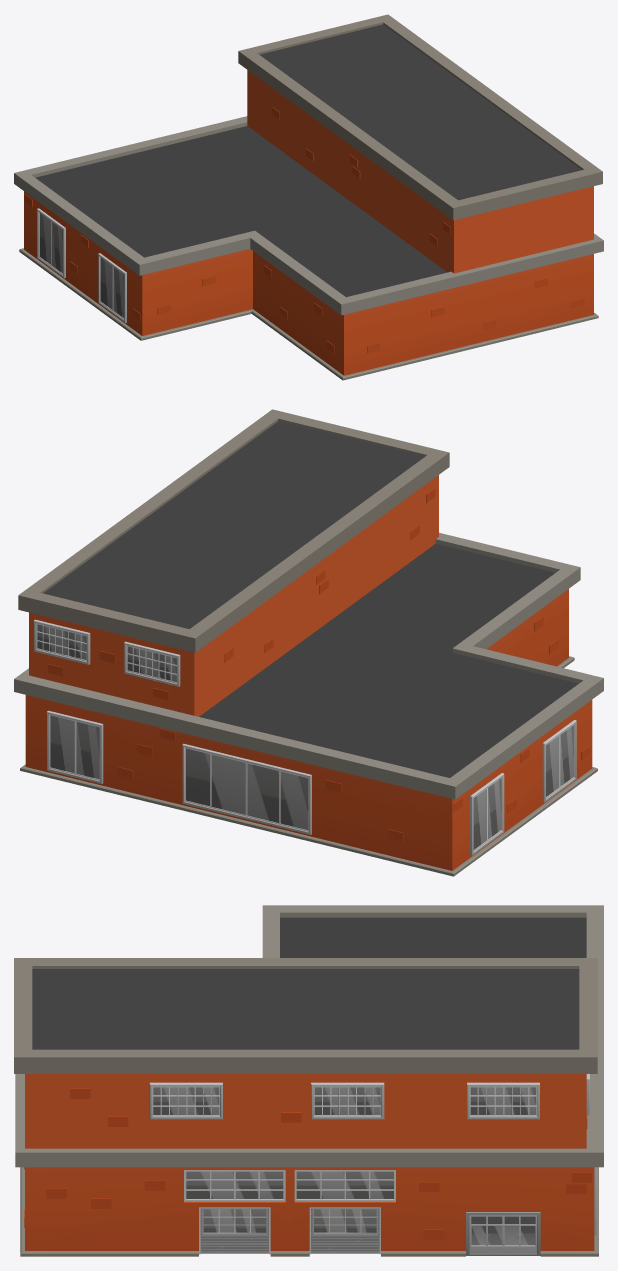
The model's file is Building_22_1_B.fbx.
3 renders of one model, top to bottom at view 1: azimuth 30°, elevation 25°; view 2: azimuth 150°, elevation 25°; view 3: azimuth 270°, elevation 25°, orthographic. The views are drawn at different scales.
Visible parts, largest first — view 1: Building_22_1_B; view 2: Building_22_1_B; view 3: Building_22_1_B.
Part boxes in pixels (x1=…): Building_22_1_B: x1=14, y1=14, x2=603, y2=380; Building_22_1_B: x1=14, y1=409, x2=603, y2=876; Building_22_1_B: x1=14, y1=905, x2=603, y2=1256.
Size of the model in its own units: 3108 by 1175 by 3132.
